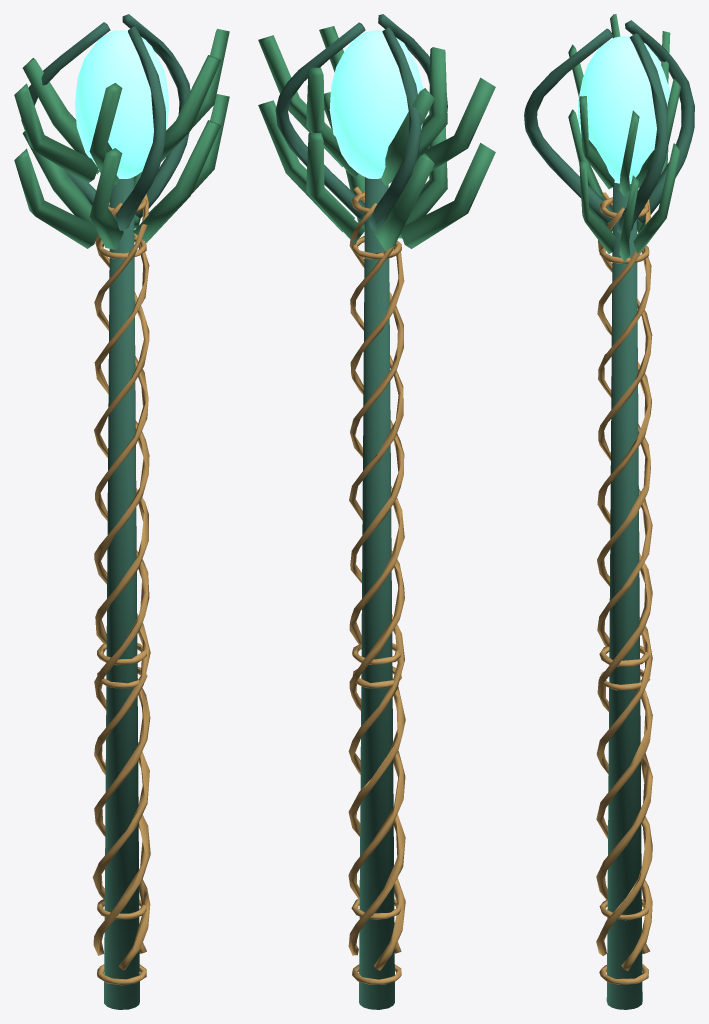
3 views of the same model, side by side, from view 1: azimuth 30°, elevation 25°; view 2: azimuth 150°, elevation 25°; view 3: azimuth 270°, elevation 25° (orthographic).
Visible parts, largest first — view 1: HonGioi_Asset; view 2: HonGioi_Asset; view 3: HonGioi_Asset.
Part boxes in pixels (x1,y1,x2,y2): HonGioi_Asset: (14, 14, 229, 1009); HonGioi_Asset: (258, 14, 495, 1009); HonGioi_Asset: (524, 14, 694, 1009).
Size of the model in its own units: 0.8009 by 3.31 by 0.5263.
